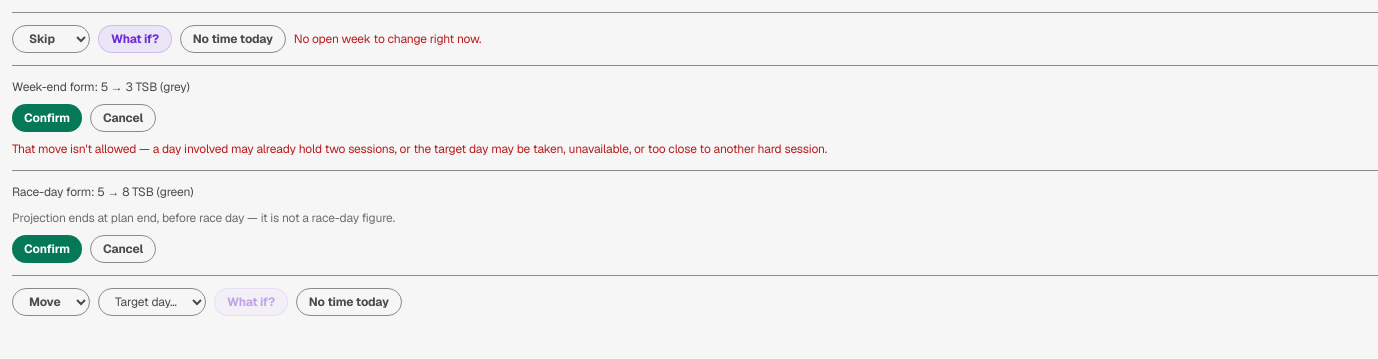
it: DayActions error rendering (interaction) › shows a typed reason, not a bare 'calibrating' sentence, when the preview lacks enough load history
Select "Wed" in the dropdown named "Target day". click: (152, 302)
box: [98, 288, 206, 316]
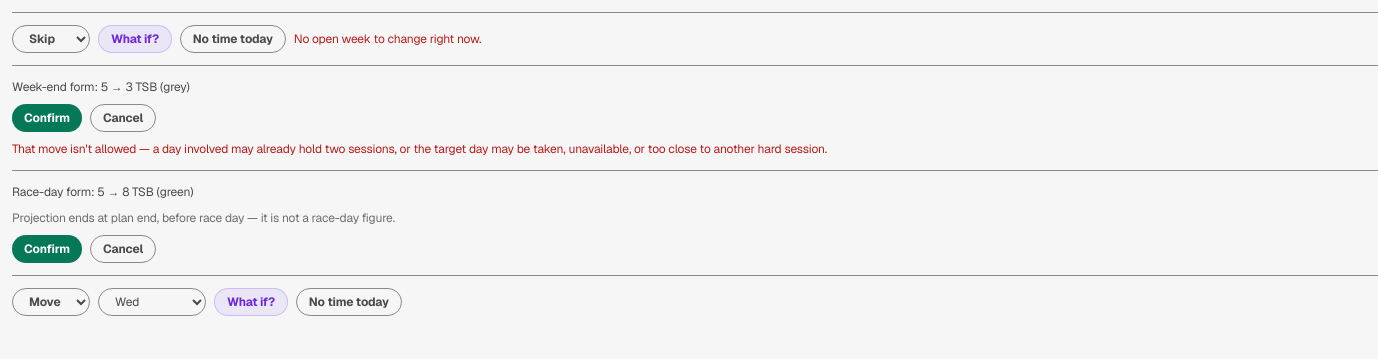
Click the 2nd button "What if?". click: (251, 302)
box: [214, 288, 288, 316]
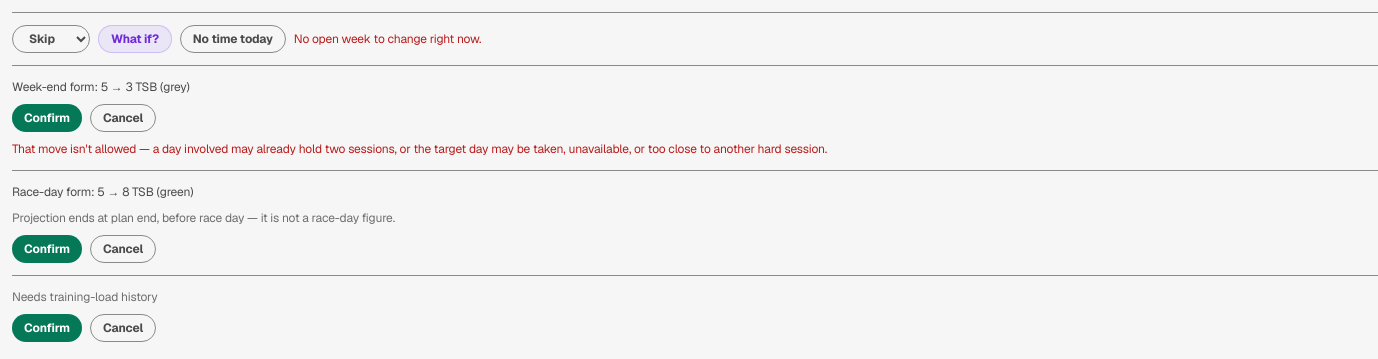
Check: the text "Needs training-load history" is shown, box [12, 289, 158, 305]
